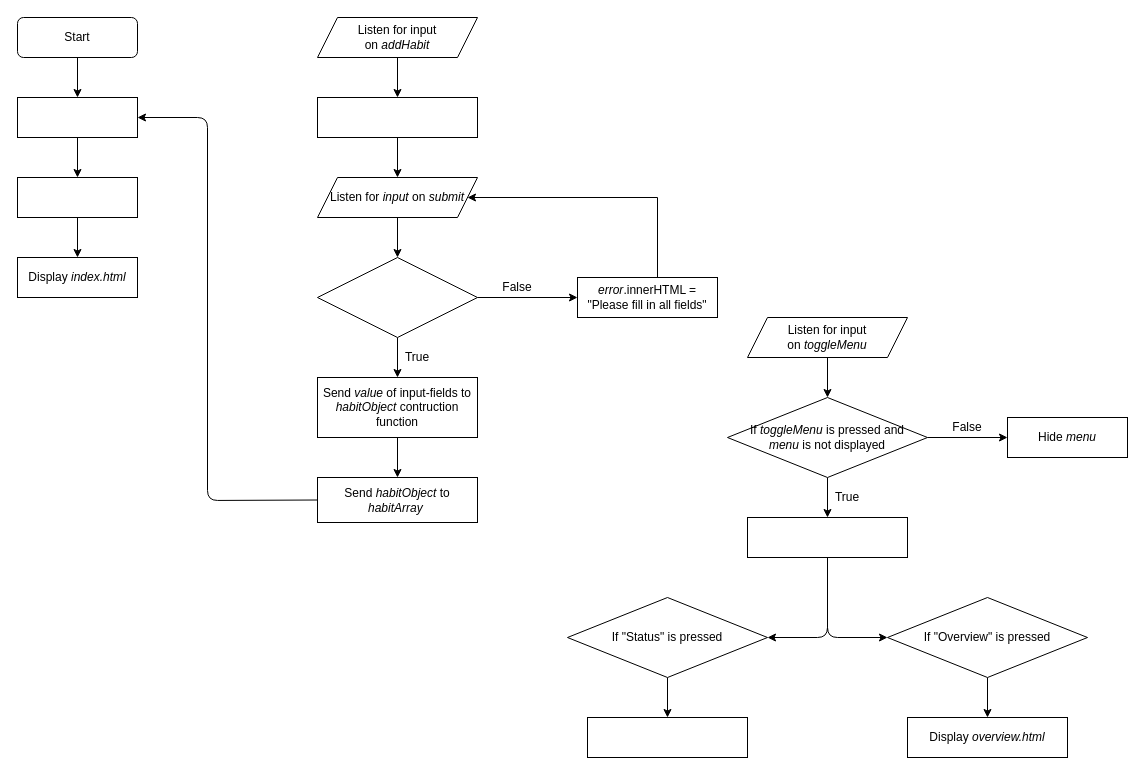
Some shapes in this 1145 by 775 pixel diagram are drawn without their labels. Each missing label, with the centre of its shape:
Display addhabit.html: [397,117]
Display habit: [77,197]
Display menu: [827,537]
Display status.html: [667,737]
For each habitObject in habitArray: [77,117]
If all input. length > 0: [397,297]
